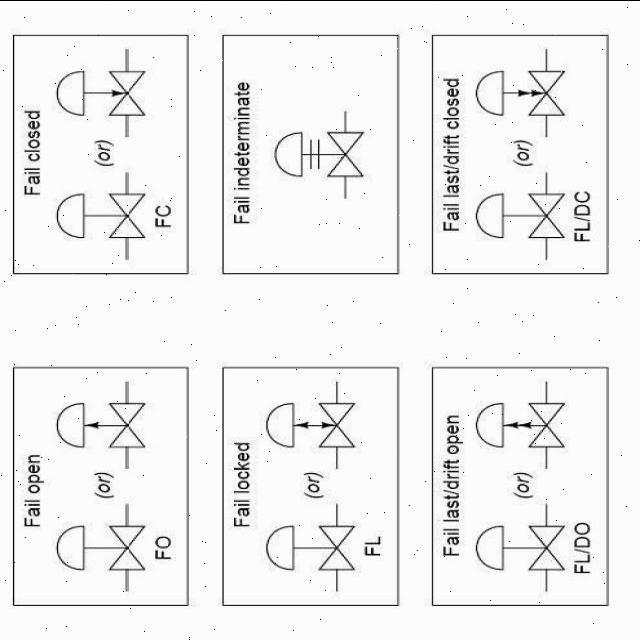Fail Closed Safe Position: (44, 64, 150, 123)
Fail Indeterminate Safe Position: (270, 114, 370, 190)
Fail Lock Safe Position: (254, 385, 376, 461)
Fail Open Safe Position: (49, 392, 160, 459)
